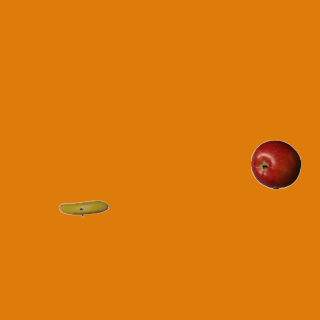Apple Braeburn: (250, 139, 300, 189)
Banana: (58, 183, 108, 233)
